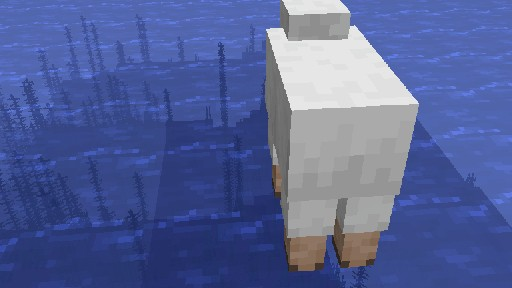sheep: (264, 0, 419, 272)
